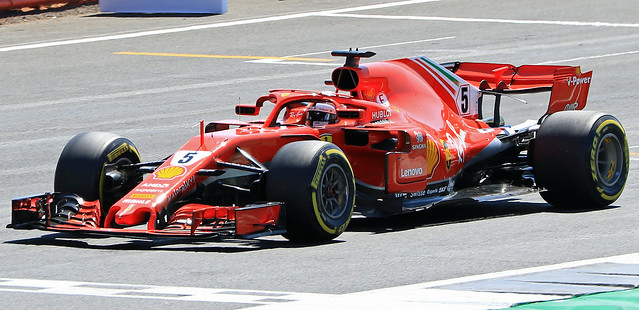F1 Car: (6, 43, 635, 250)
